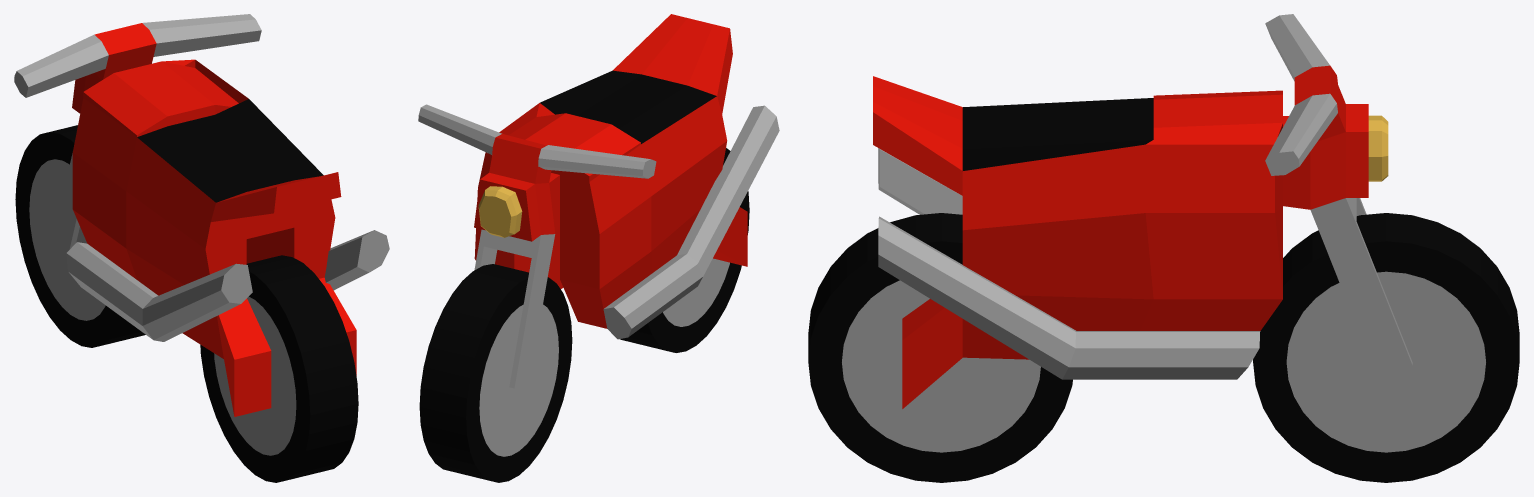
Rendered from Motorbike2.fbx.
3 views of the same model, side by side, from view 1: azimuth 30°, elevation 25°; view 2: azimuth 150°, elevation 25°; view 3: azimuth 270°, elevation 25° (orthographic). The views are drawn at different scales.
Visible parts, largest first — view 1: Cube, Cylinder, Cylinder.001, Cube.001; view 2: Cube, Cylinder.001, Cube.001, Cylinder; view 3: Cube, Cylinder.001, Cylinder, Cube.001.
Part boxes in pixels (box(x1,y1,x2,y2)): Cube: box(14, 14, 356, 416); Cylinder: box(200, 255, 358, 482); Cylinder.001: box(15, 125, 145, 347); Cube.001: box(66, 230, 389, 341); Cube: box(418, 14, 747, 388); Cylinder.001: box(419, 264, 572, 482); Cube.001: box(603, 105, 779, 339); Cylinder: box(620, 148, 749, 352); Cube: box(873, 14, 1412, 408); Cylinder.001: box(1253, 213, 1519, 482); Cylinder: box(808, 213, 1072, 482); Cube.001: box(878, 148, 1260, 379).
Bounding box in the file's own units: 162 × 214 × 354.
